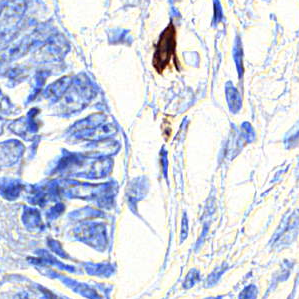Lymphocyte: (151, 23, 179, 74)
